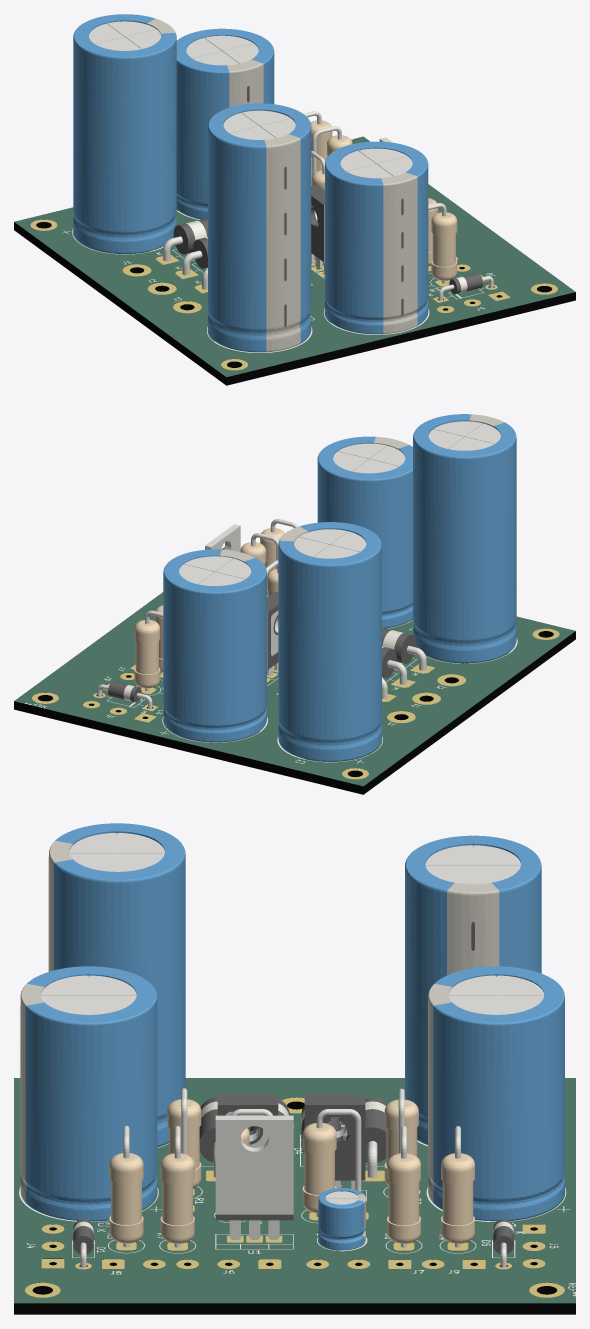
The picture shows the model from 3 angles, top to bottom: view 1: azimuth 30°, elevation 25°; view 2: azimuth 150°, elevation 25°; view 3: azimuth 270°, elevation 25°; orthographic projection. The views are drawn at different scales.
Visible parts, largest first — view 1: imagetostl_mesh655, imagetostl_mesh250, imagetostl_mesh19, imagetostl_mesh347, imagetostl_mesh20, imagetostl_mesh200, imagetostl_mesh653, imagetostl_mesh348, imagetostl_mesh654, imagetostl_mesh259, imagetostl_mesh356, imagetostl_mesh28 (+10 smaller); view 2: imagetostl_mesh655, imagetostl_mesh19, imagetostl_mesh250, imagetostl_mesh200, imagetostl_mesh347, imagetostl_mesh653, imagetostl_mesh654, imagetostl_mesh259, imagetostl_mesh28, imagetostl_mesh209, imagetostl_mesh356, imagetostl_mesh11 (+7 smaller); view 3: imagetostl_mesh655, imagetostl_mesh347, imagetostl_mesh200, imagetostl_mesh19, imagetostl_mesh250, imagetostl_mesh653, imagetostl_mesh134, imagetostl_mesh654, imagetostl_mesh251, imagetostl_mesh356, imagetostl_mesh28, imagetostl_mesh209 (+38 smaller).
Boxes of the visible parts, bbox=[...] form: imagetostl_mesh655: bbox=[14, 136, 575, 377]; imagetostl_mesh250: bbox=[73, 40, 176, 230]; imagetostl_mesh19: bbox=[208, 129, 311, 328]; imagetostl_mesh347: bbox=[325, 167, 428, 316]; imagetostl_mesh20: bbox=[266, 140, 300, 328]; imagetostl_mesh200: bbox=[176, 52, 274, 203]; imagetostl_mesh653: bbox=[14, 222, 575, 385]; imagetostl_mesh348: bbox=[383, 178, 417, 316]; imagetostl_mesh654: bbox=[30, 219, 557, 370]; imagetostl_mesh259: bbox=[74, 14, 175, 56]; imagetostl_mesh356: bbox=[326, 141, 426, 184]; imagetostl_mesh28: bbox=[209, 103, 310, 146]; imagetostl_mesh655: bbox=[14, 547, 575, 786]; imagetostl_mesh19: bbox=[413, 439, 516, 639]; imagetostl_mesh250: bbox=[278, 546, 381, 738]; imagetostl_mesh200: bbox=[163, 573, 266, 724]; imagetostl_mesh347: bbox=[317, 462, 412, 611]; imagetostl_mesh653: bbox=[14, 631, 575, 794]; imagetostl_mesh654: bbox=[32, 596, 559, 779]; imagetostl_mesh259: bbox=[279, 522, 380, 564]; imagetostl_mesh28: bbox=[414, 414, 515, 456]; imagetostl_mesh209: bbox=[164, 549, 265, 592]; imagetostl_mesh356: bbox=[318, 436, 412, 479]; imagetostl_mesh11: bbox=[413, 630, 516, 661]; imagetostl_mesh655: bbox=[14, 1078, 575, 1303]; imagetostl_mesh347: bbox=[25, 998, 157, 1198]; imagetostl_mesh200: bbox=[433, 997, 564, 1198]; imagetostl_mesh19: bbox=[54, 856, 185, 1115]; imagetostl_mesh250: bbox=[405, 869, 541, 1114]; imagetostl_mesh653: bbox=[14, 1101, 575, 1314]; imagetostl_mesh134: bbox=[215, 1120, 293, 1214]; imagetostl_mesh654: bbox=[25, 1097, 564, 1297]; imagetostl_mesh251: bbox=[447, 893, 499, 975]; imagetostl_mesh356: bbox=[27, 966, 155, 1022]; imagetostl_mesh28: bbox=[55, 823, 183, 879]; imagetostl_mesh209: bbox=[435, 966, 563, 1022].
Size of the model in its own units: 2763 by 1943 by 2909.
